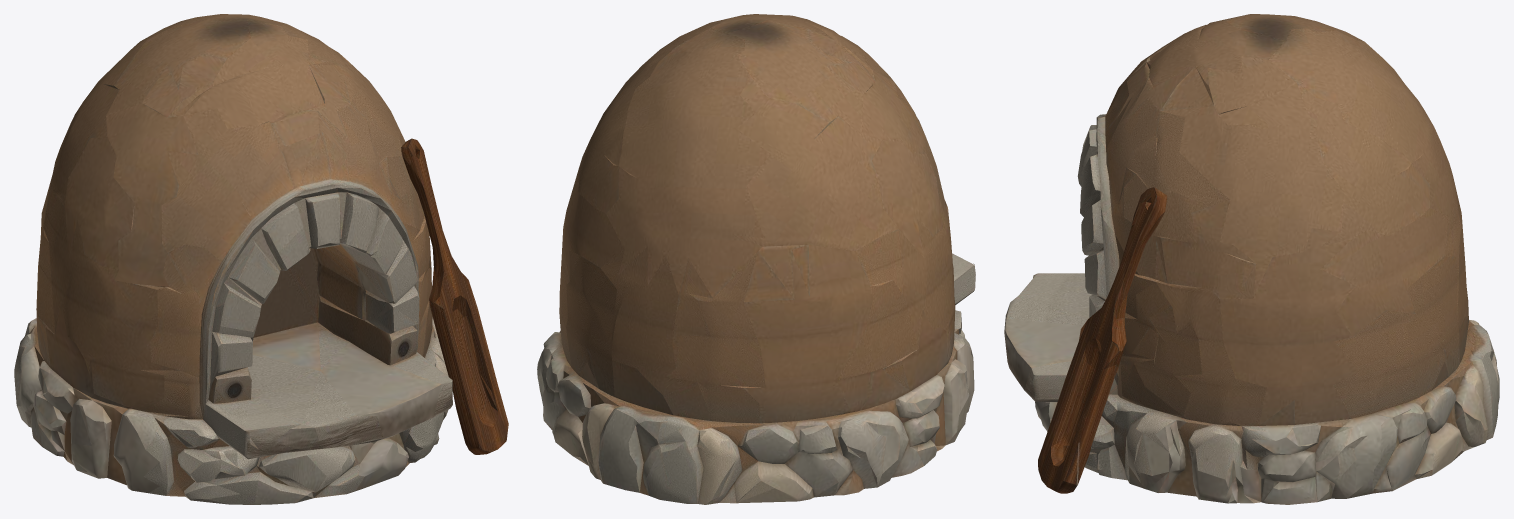
Rendered from oven.glb.
3 renders of one model, left to right at view 1: azimuth 30°, elevation 25°; view 2: azimuth 150°, elevation 25°; view 3: azimuth 270°, elevation 25°, orthographic.
Parts seen in each view (by area): view 1: oven; view 2: oven; view 3: oven.
Part boxes in pixels (x1=…): oven: x1=14, y1=14, x2=508, y2=504; oven: x1=537, y1=14, x2=975, y2=504; oven: x1=1004, y1=14, x2=1499, y2=504.
Bounding box in the file's own units: 1.35 × 1.35 × 1.56.
Materials: 1 (1 with a texture image).
